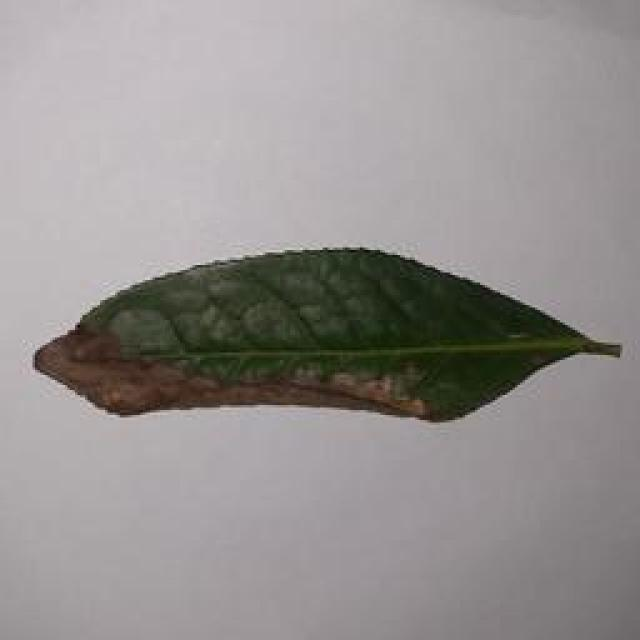Brown Blight: (29, 232, 630, 448)
